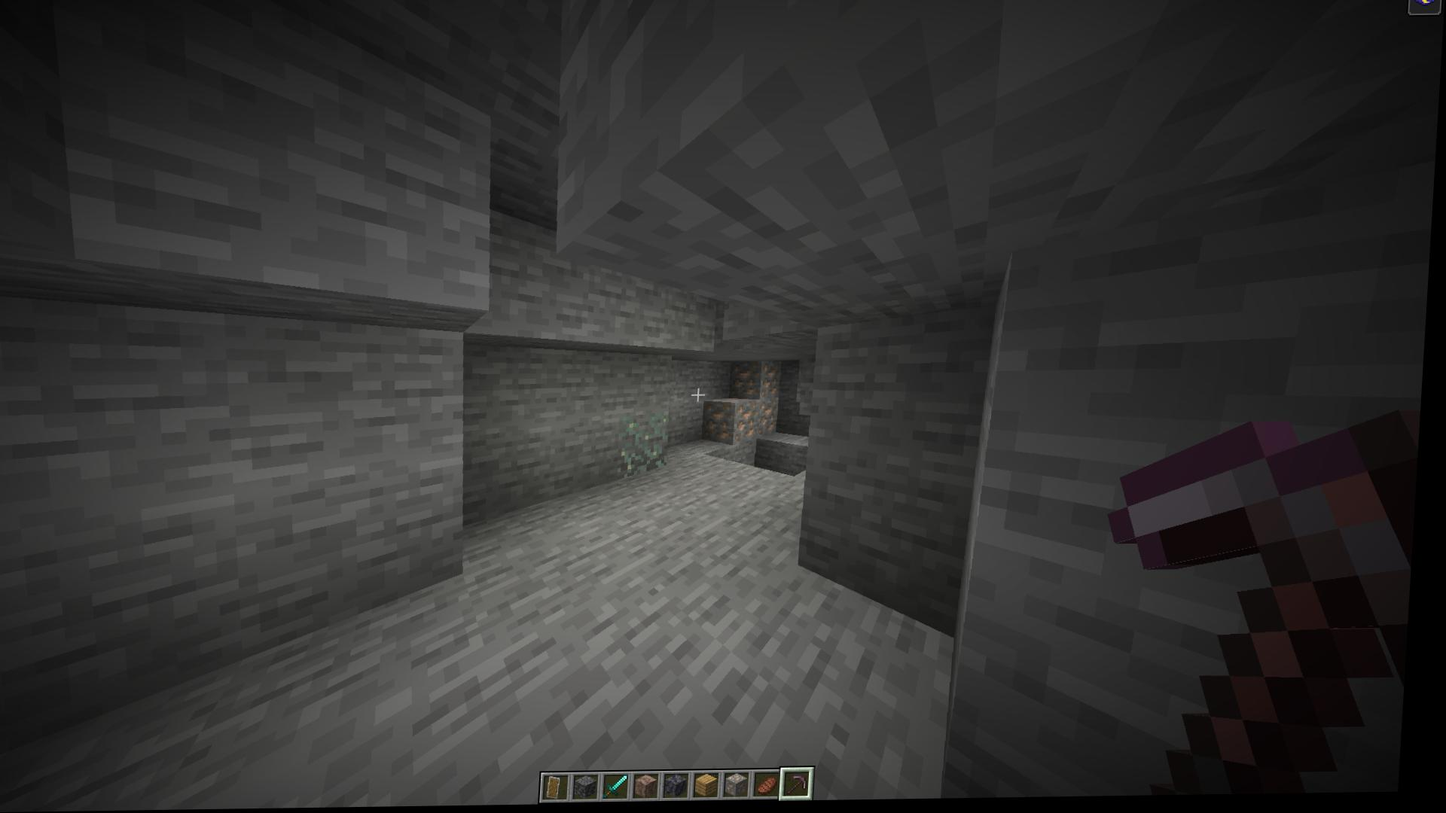iron ore: (707, 403, 745, 446), (736, 359, 767, 404), (740, 405, 764, 445), (765, 363, 789, 402), (763, 401, 788, 438)
